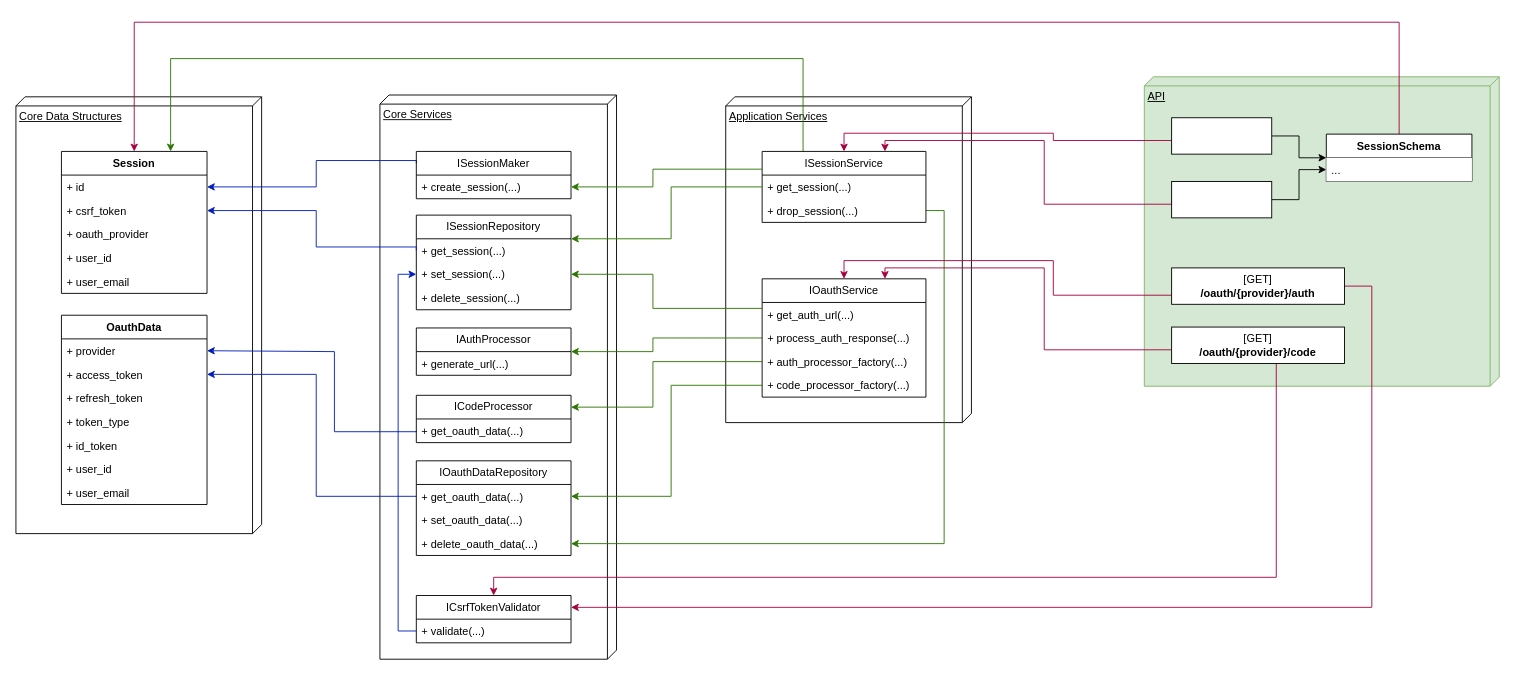
Image size: 1515x675. Some labels were removed from this diagram. Here are the shapes that lost their labels. From the top down, the centre of each, then its label:
the point at 1221,135: [GET] /session
the point at 1221,199: [DELETE] /session
